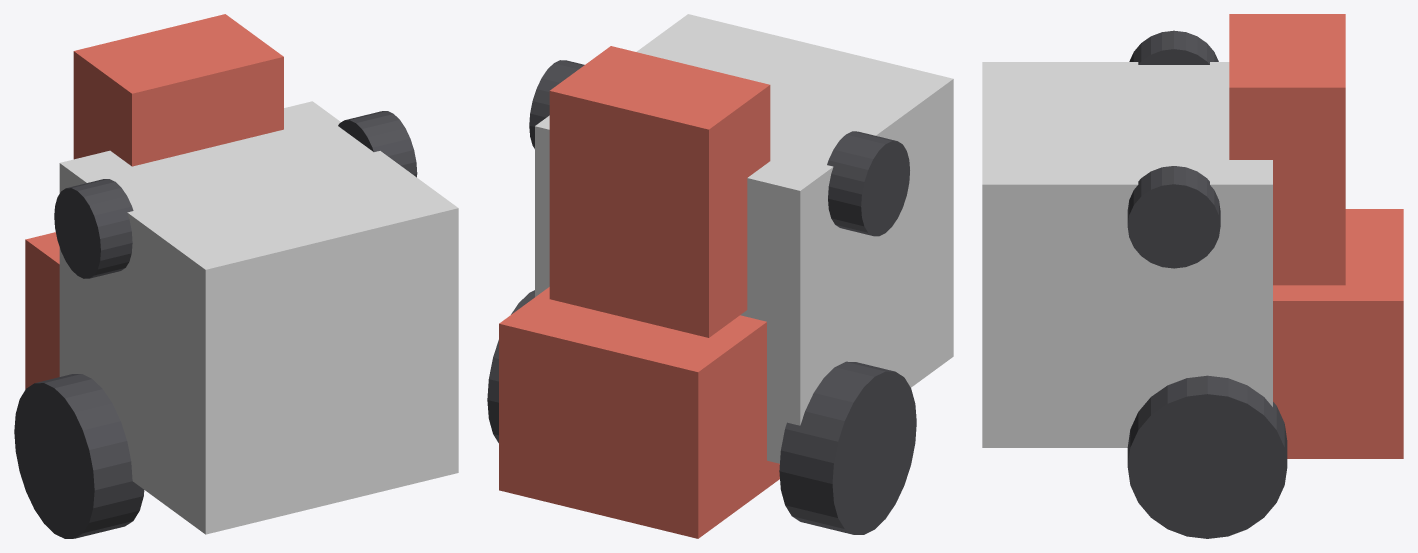
The model's file is tractor_2.glb.
3 views of the same model, side by side, from view 1: azimuth 30°, elevation 25°; view 2: azimuth 150°, elevation 25°; view 3: azimuth 270°, elevation 25° (orthographic). The views are drawn at different scales.
Parts seen in each view (by area): view 1: Cube, Bonnet, Wheel_RR, Wheel_FR, Cabin, Wheel_FL; view 2: Cube, Cabin, Bonnet, Wheel_RR, Wheel_FR, Wheel_FL, Wheel_RL; view 3: Cube, Cabin, Bonnet, Wheel_RL, Wheel_FL, Wheel_FR.
Boxes of the visible parts, left/top/right/bottom form: Cube: left=59, top=101, right=458, bottom=534; Bonnet: left=73, top=14, right=283, bottom=166; Wheel_RR: left=14, top=374, right=144, bottom=538; Wheel_FR: left=54, top=179, right=133, bottom=278; Cabin: left=25, top=232, right=59, bottom=389; Wheel_FL: left=338, top=111, right=417, bottom=177; Cube: left=535, top=14, right=953, bottom=463; Cabin: left=499, top=287, right=779, bottom=538; Bonnet: left=549, top=46, right=770, bottom=337; Wheel_RR: left=779, top=361, right=916, bottom=534; Wheel_FR: left=827, top=131, right=909, bottom=236; Wheel_FL: left=529, top=60, right=584, bottom=148; Wheel_RL: left=487, top=290, right=534, bottom=442; Cube: left=982, top=62, right=1272, bottom=447; Cabin: left=1273, top=209, right=1403, bottom=458; Bonnet: left=1229, top=14, right=1345, bottom=285; Wheel_RL: left=1127, top=375, right=1287, bottom=538; Wheel_FL: left=1127, top=166, right=1220, bottom=268; Wheel_FR: left=1129, top=30, right=1218, bottom=64.
Size of the model in its own units: 2.6 by 3.1 by 2.9.
